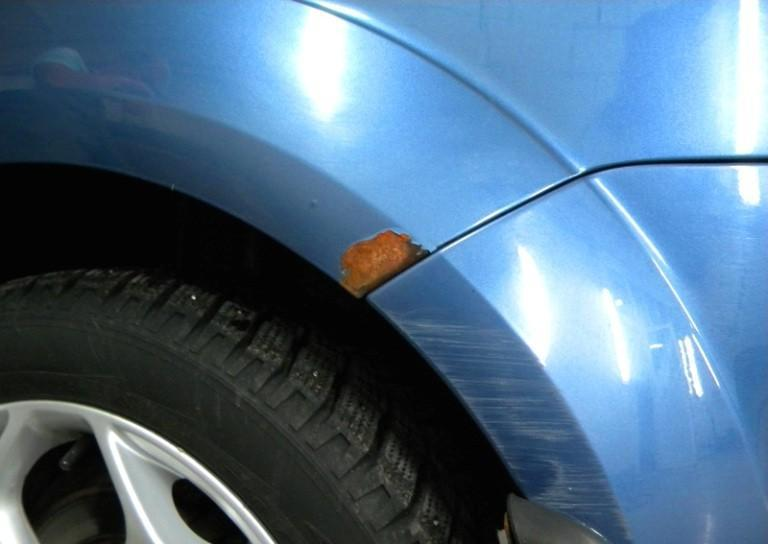corrosion: (342, 231, 429, 299)
